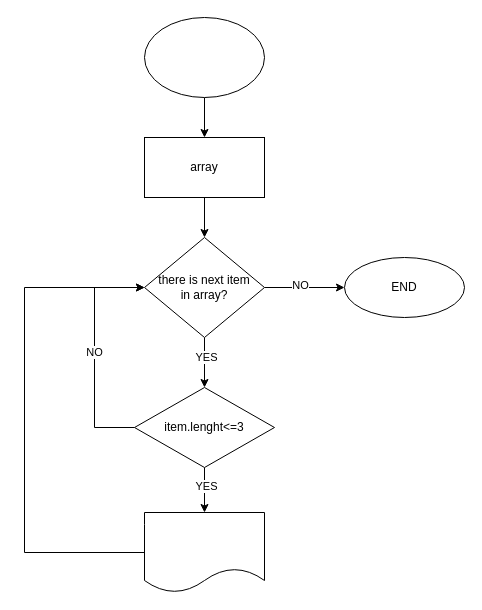
The diagram is 482 pixels wide and 610 high, and some of its shapes have lost their labels. Here are the shapes that lost their labels. From the top down, the centre of each, then its label:
pixel 204 57: BEGIN
pixel 204 552: item
